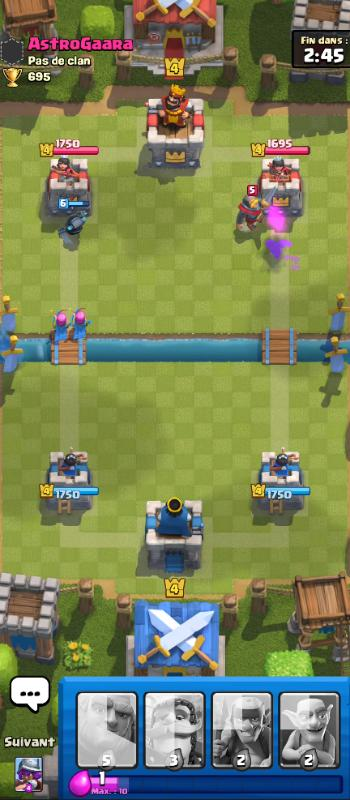archere: (65, 305, 93, 346), (45, 309, 72, 345)
chevalier: (232, 191, 271, 234)
mini_PEKKA: (56, 209, 95, 239)
